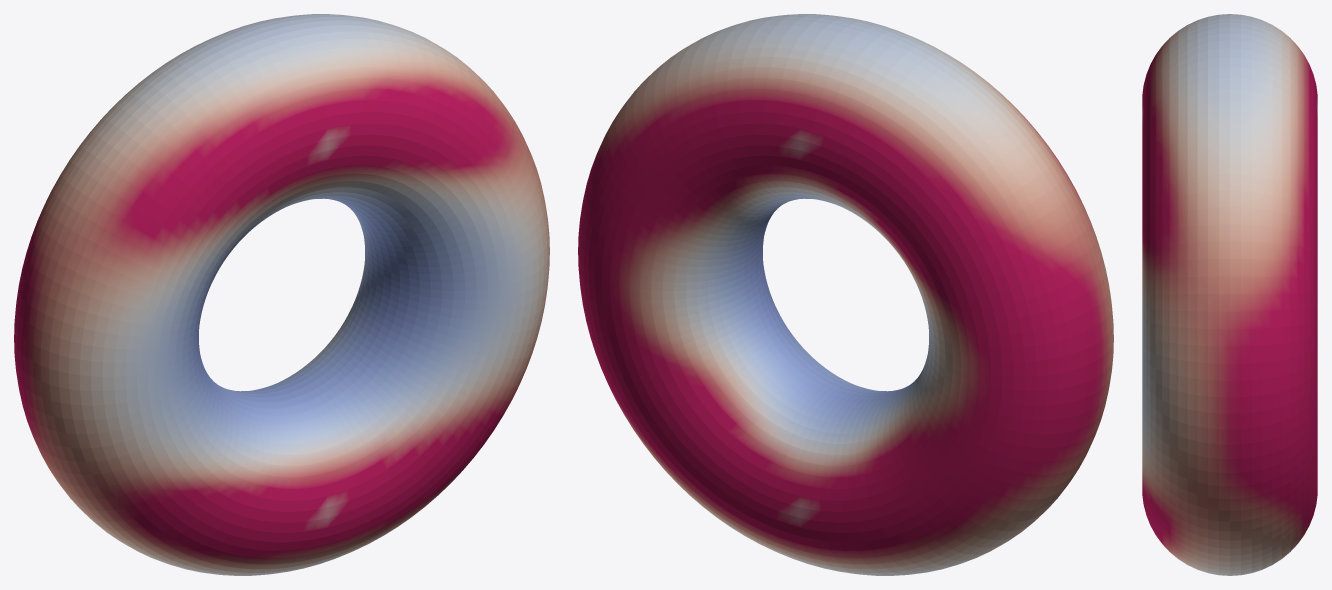
3 views of the same model, side by side, from view 1: azimuth 30°, elevation 25°; view 2: azimuth 150°, elevation 25°; view 3: azimuth 270°, elevation 25° (orthographic). The views are drawn at different scales.
Visible parts, largest first — view 1: world; view 2: world; view 3: world.
Boxes of the visible parts, bbox=[...] form: world: bbox=[14, 14, 549, 575]; world: bbox=[578, 14, 1113, 575]; world: bbox=[1142, 14, 1317, 575].
Size of the model in its own units: 24.27 by 24.27 by 7.59.
